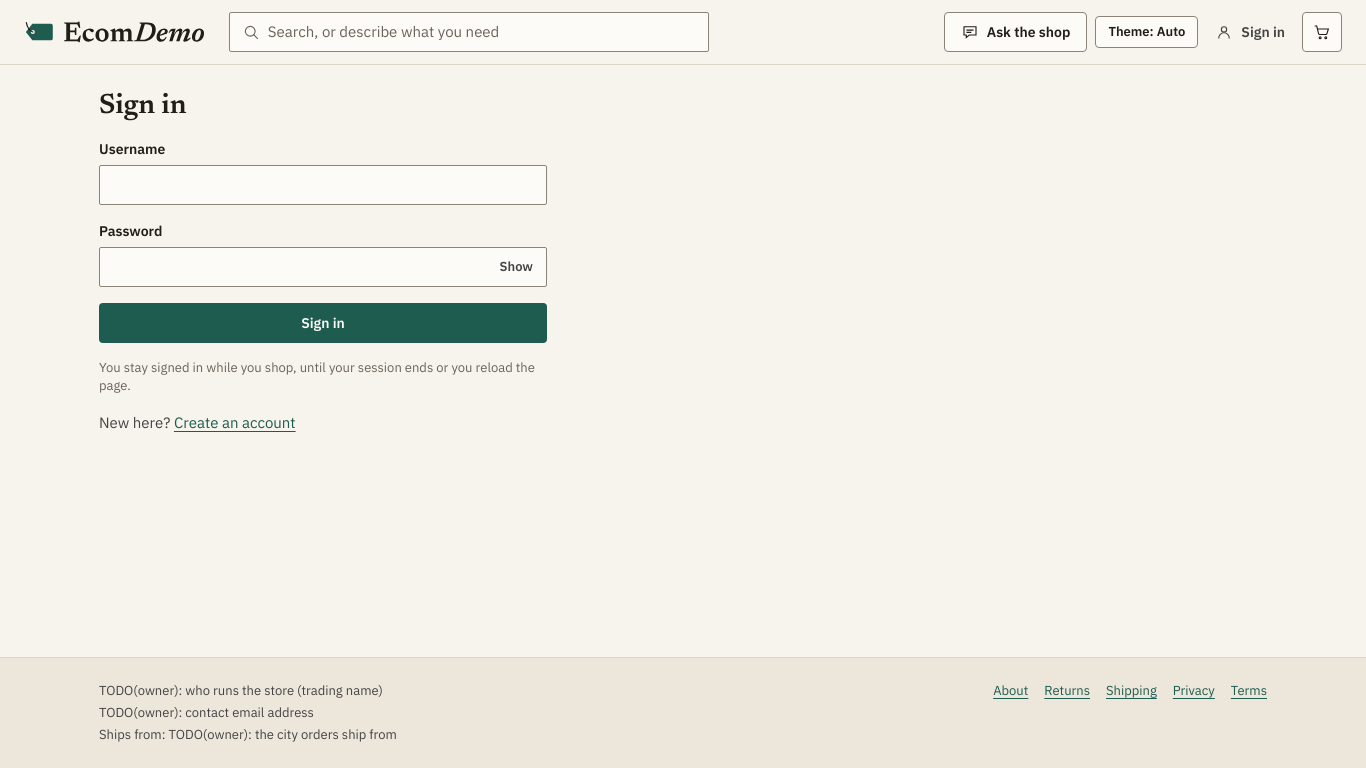
Scenario: signing in, when the answers are not what the backend promised › stays signed out, with a plain sentence, for a login that answers with no body at all
The width and height of the screenshot is (1366, 768).
Expected: the heading "Sign in" is shown, [99,89,187,123]
Type "asha.rao" into the field labelled "Username" at (323, 185), box [112,166,534,204]
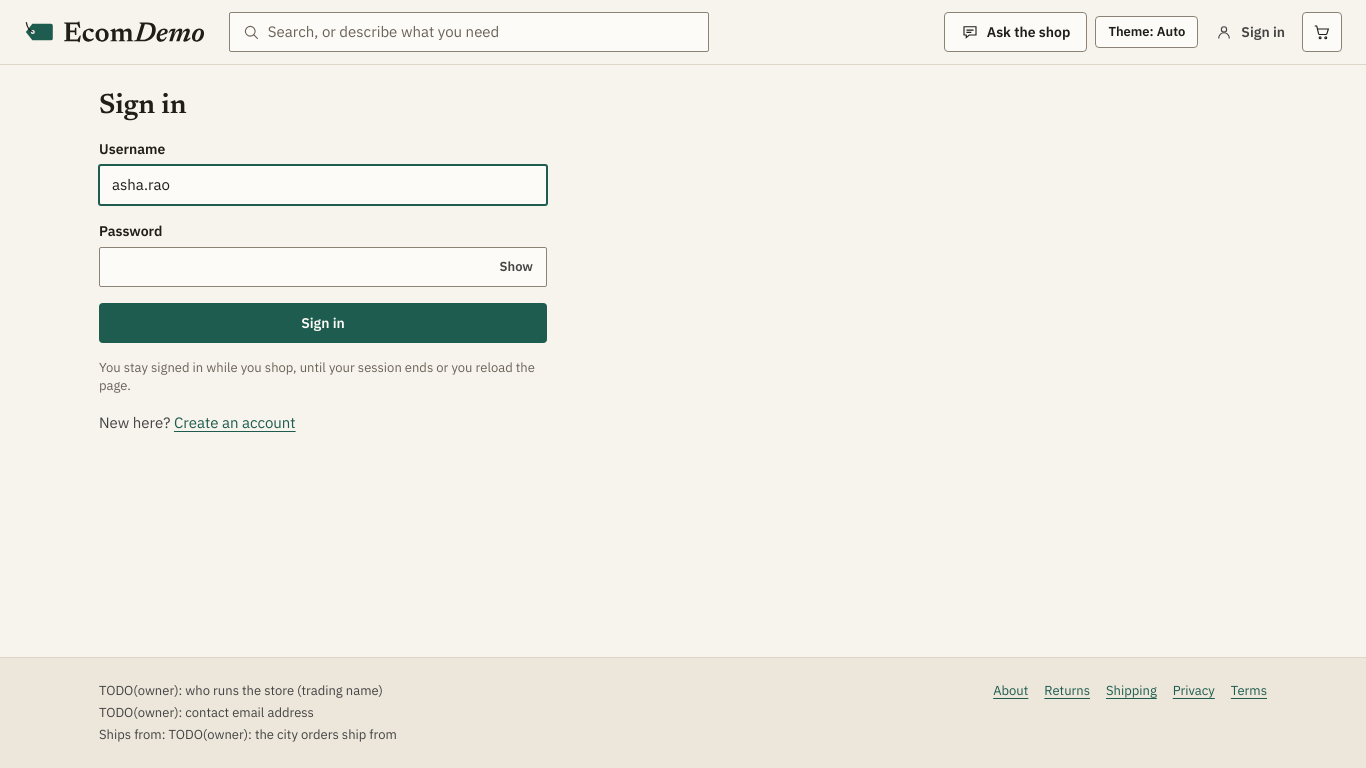
Type "correct horse" into the password field labelled "Password" at (297, 267), box [112,248,483,286]
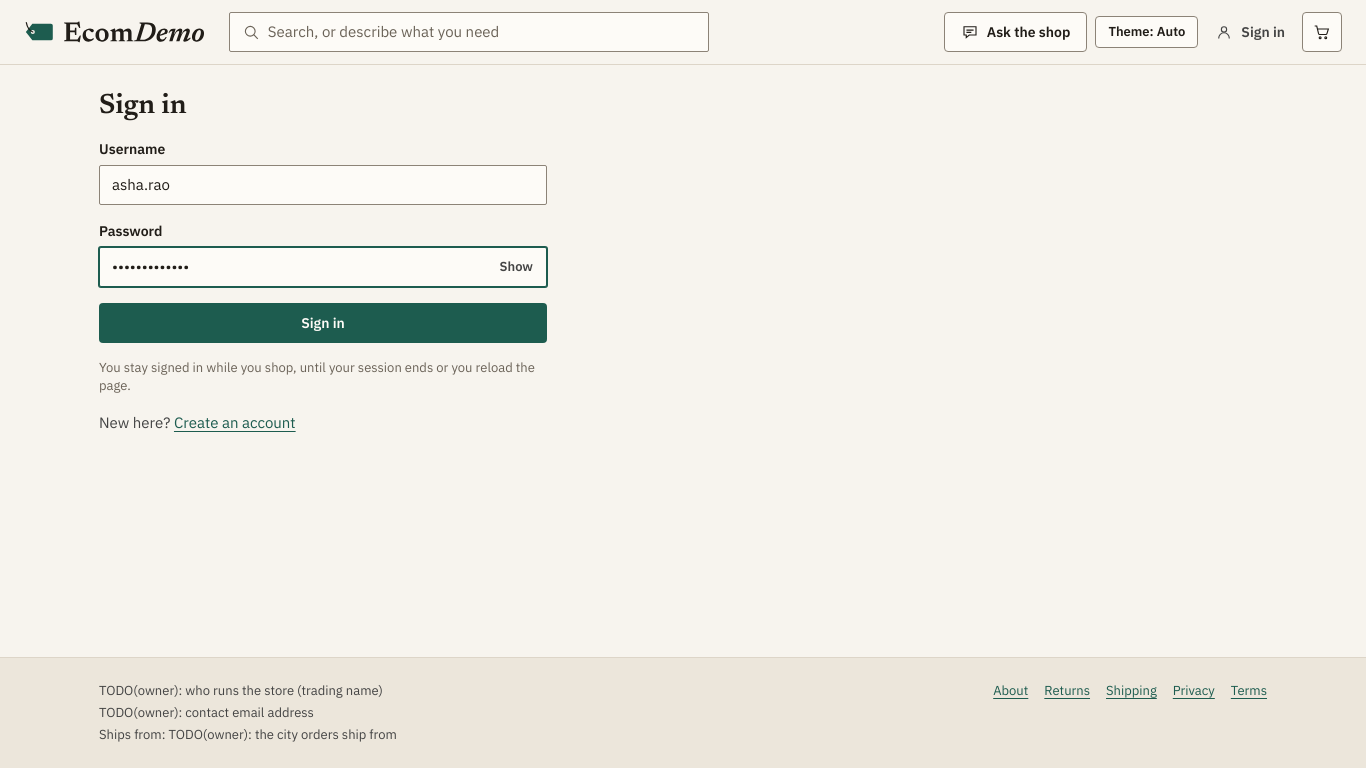
Click the button "Sign in" at (323, 323), box [99,303,547,343]
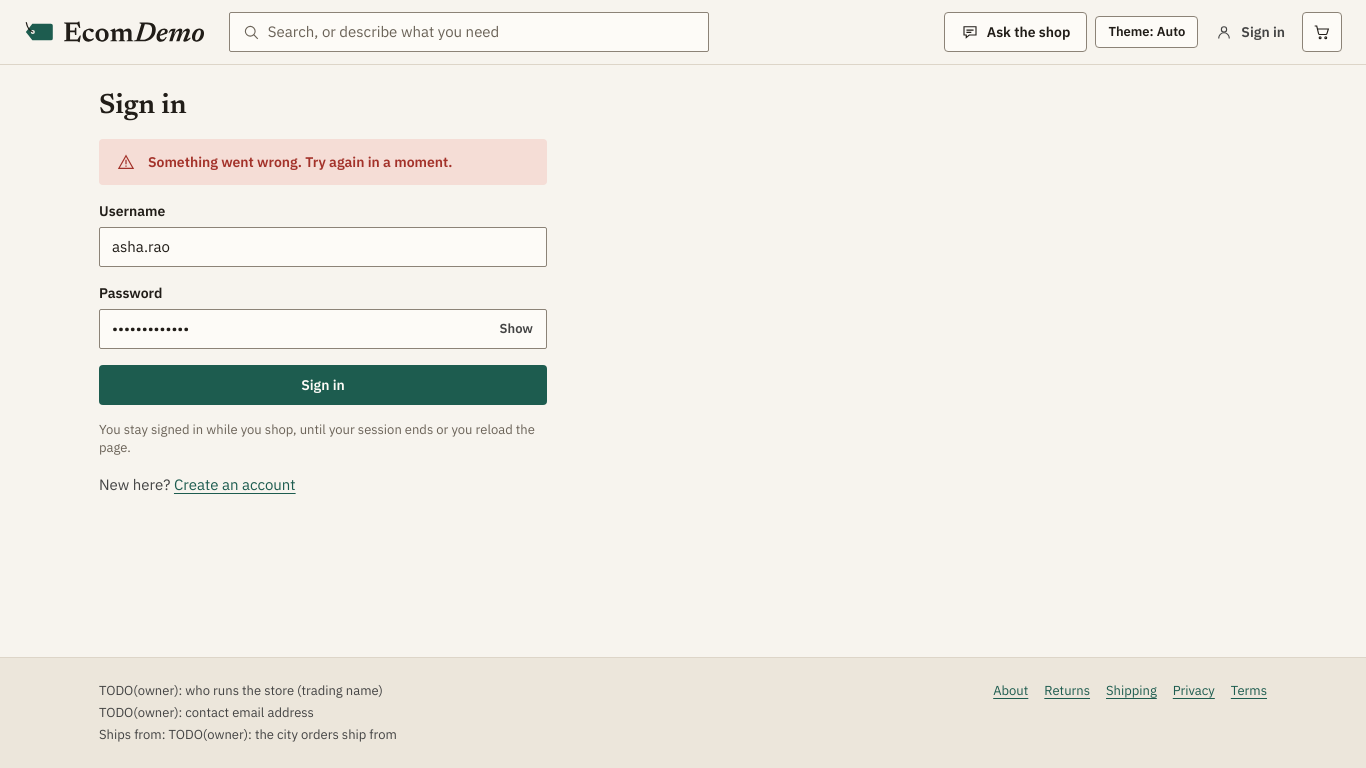
Expected: the message reads "Something went wrong. Try again in a moment.", [148,153,452,171]
